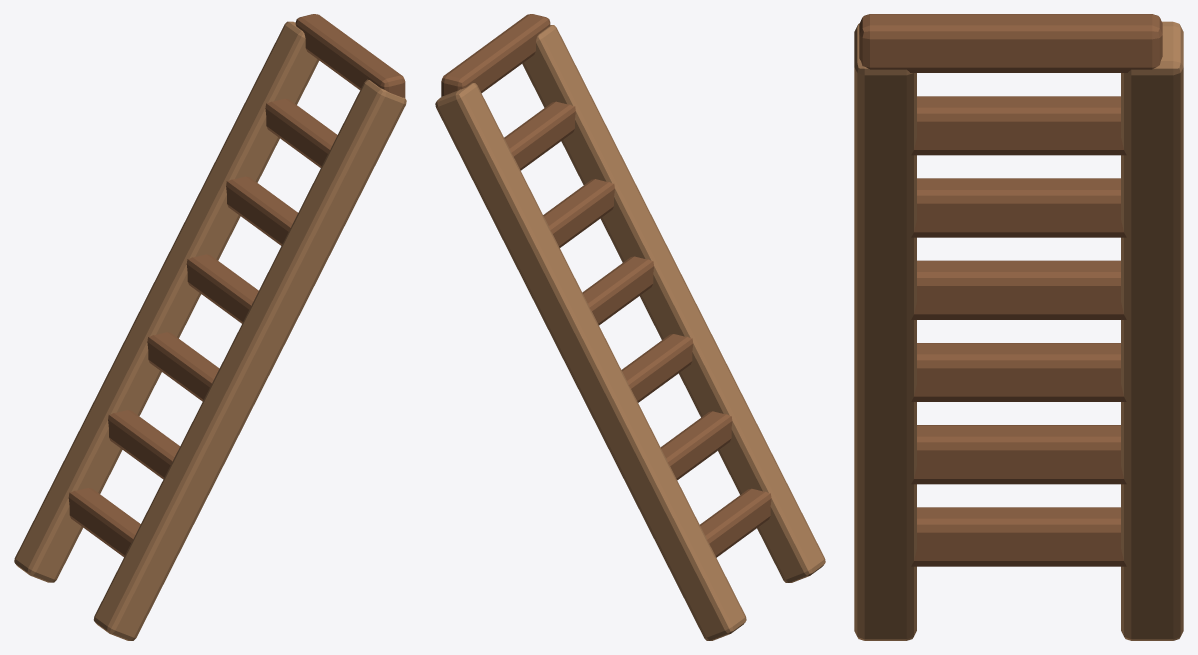
File: SM_Menu_ScaffoldLadder.fbx
3 renders of one model, left to right at view 1: azimuth 30°, elevation 25°; view 2: azimuth 150°, elevation 25°; view 3: azimuth 270°, elevation 25°, orthographic. The views are drawn at different scales.
Visible parts, largest first — view 1: Timber.069_Baked; view 2: Timber.069_Baked; view 3: Timber.069_Baked.
Part boxes in pixels (<box>): Timber.069_Baked: <box>14,14,406,640</box>; Timber.069_Baked: <box>435,14,825,640</box>; Timber.069_Baked: <box>854,14,1183,640</box>.
Size of the model in its own units: 111 by 63 by 176.
